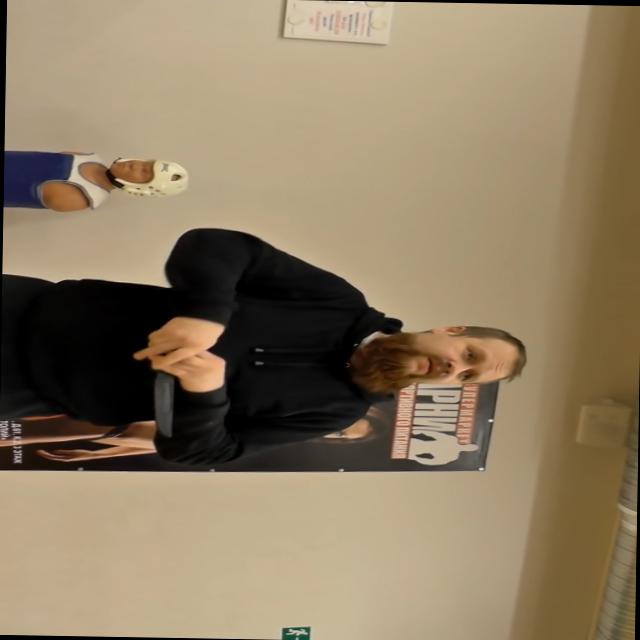knife: (130, 324, 210, 440)
